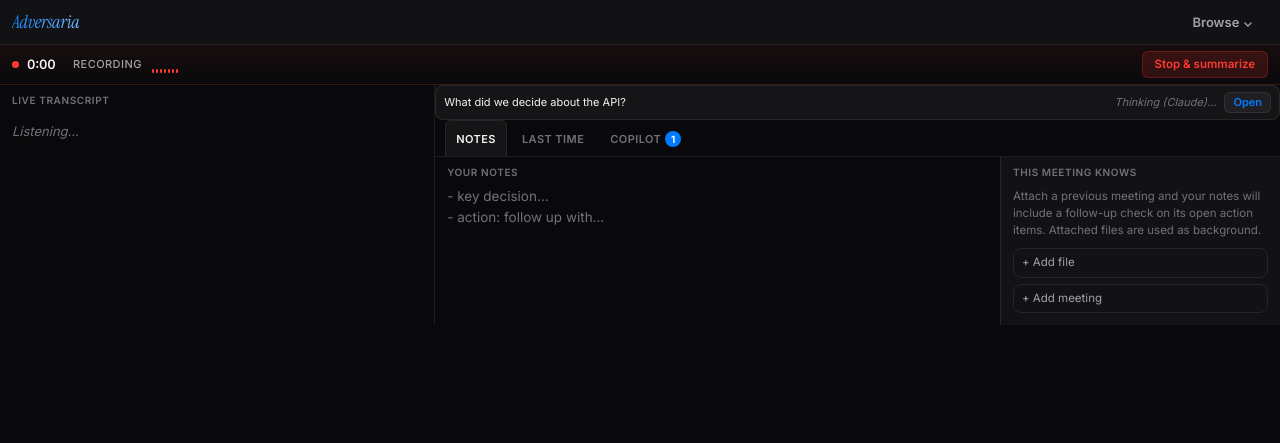
Test: RecordingCompanion › renders Copilot tab and shows cards when active
Expected: the element with test id "copilot-answer-strip" is shown, [435, 85, 1279, 120]
Click the tab "Copilot 1" at [646, 138], box [599, 120, 692, 156]
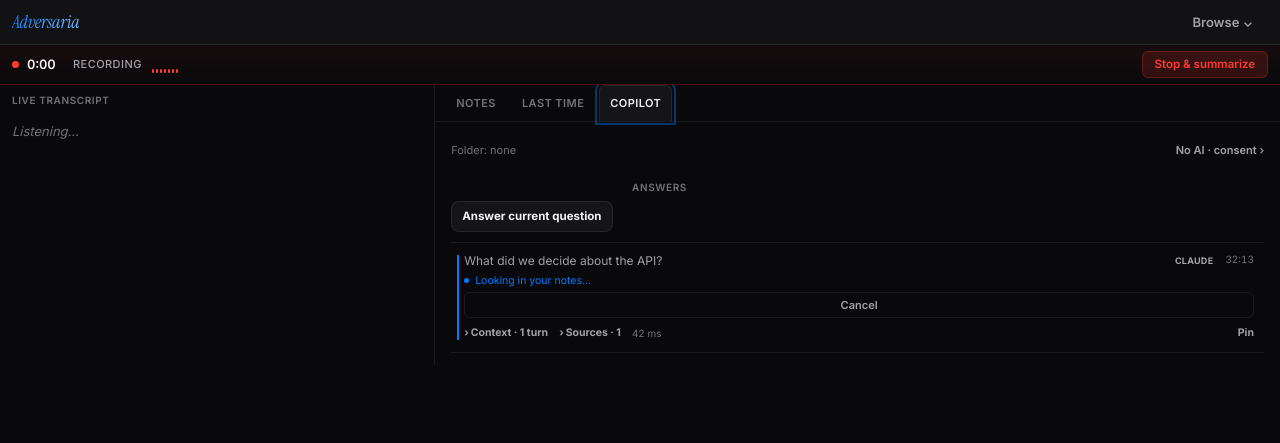
Expected: the text "We chose GraphQL." is not shown
Click the button "› Sources · 1" at [590, 333], box [559, 324, 621, 342]
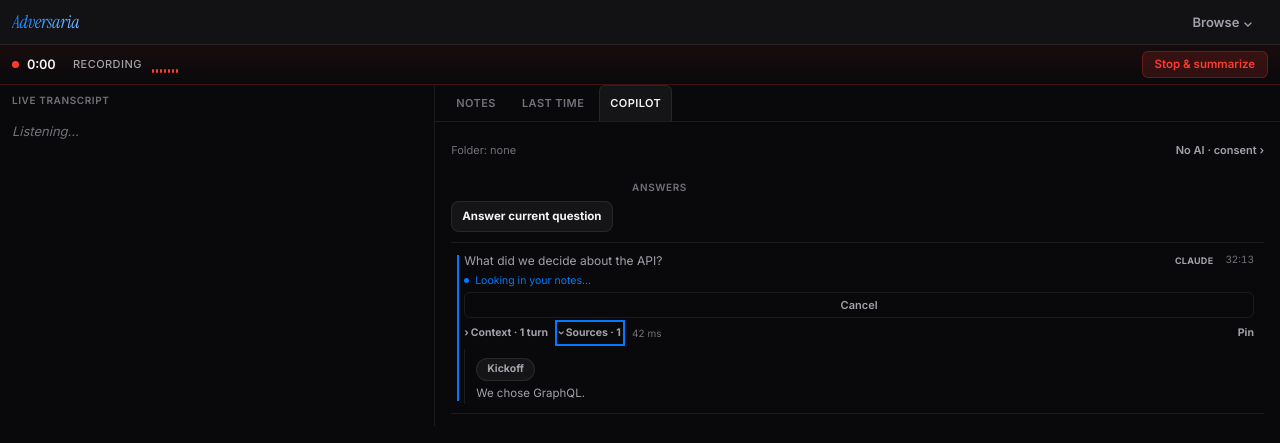
Expected: the text "We chose GraphQL." is shown, [476, 386, 585, 400]
